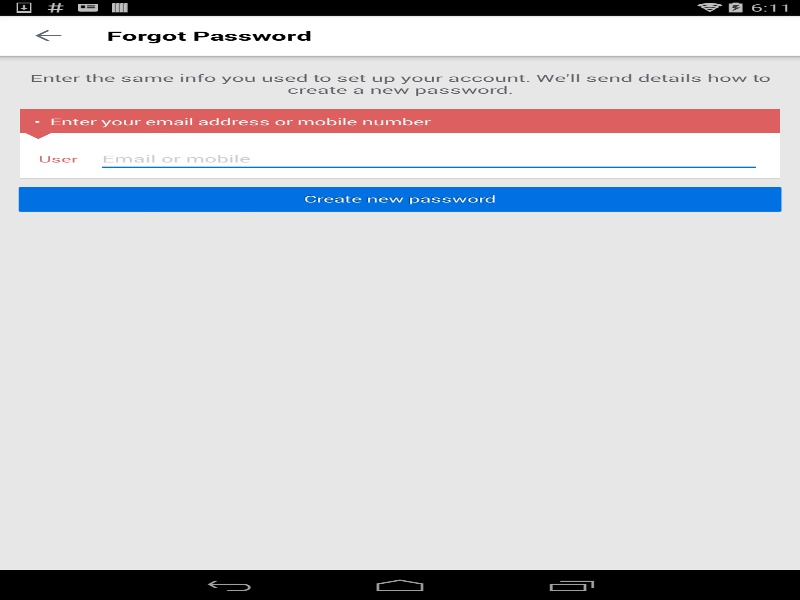Button: (12, 184, 788, 214), (10, 15, 85, 55)
Input: (96, 145, 761, 172)
